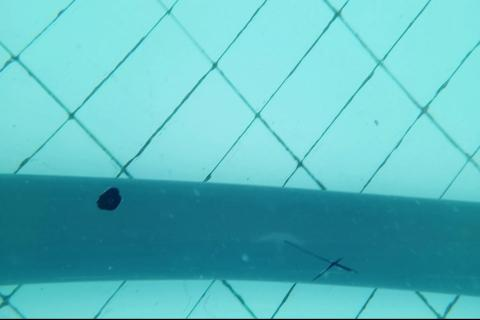kebocoran: (96, 185, 122, 212)
keretakan: (283, 237, 358, 280)
